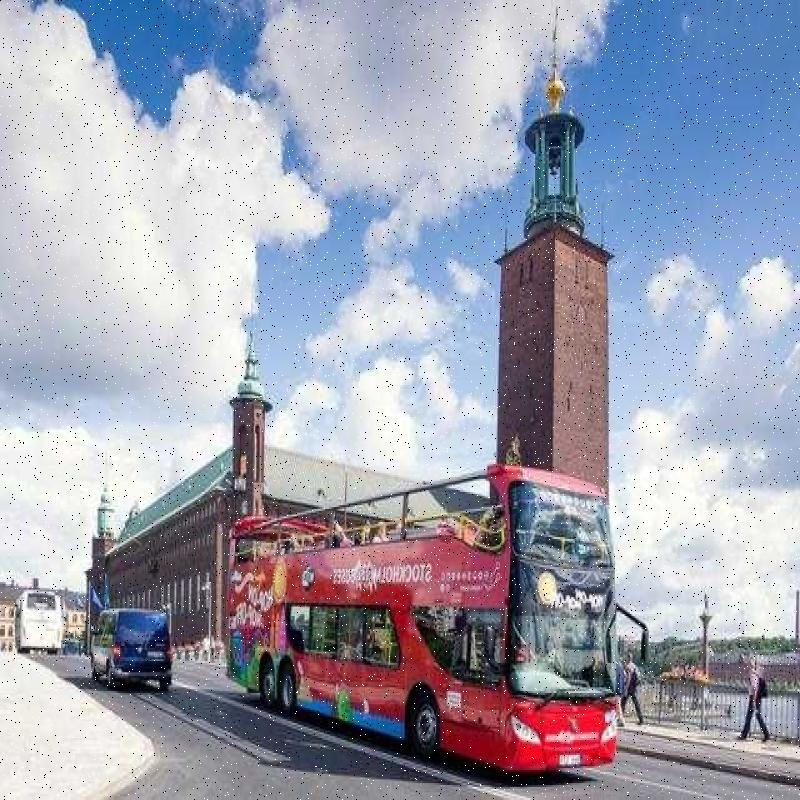bus: (209, 454, 622, 768)
